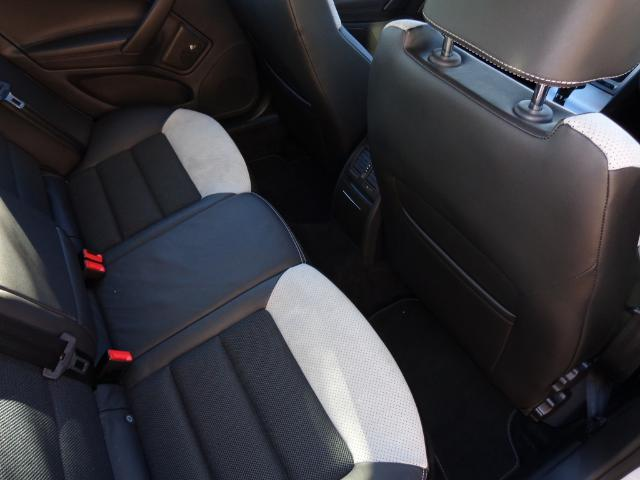Seatbelt: (0, 82, 82, 160), (0, 314, 84, 374)
